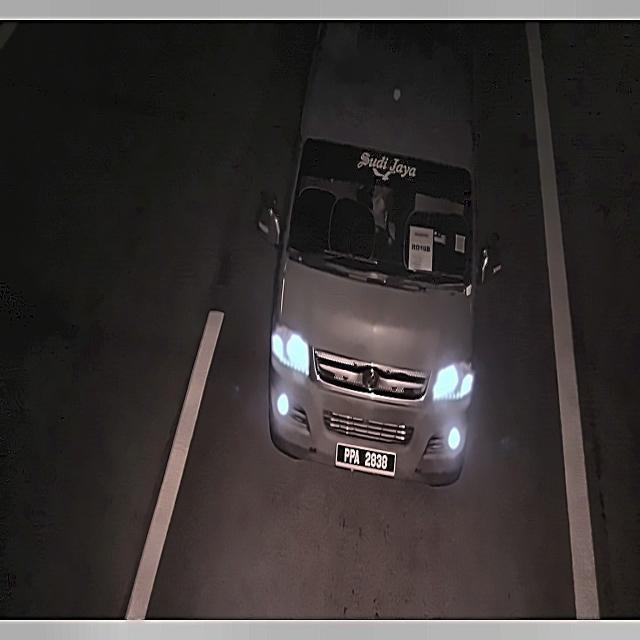car: (336, 440, 398, 480)
